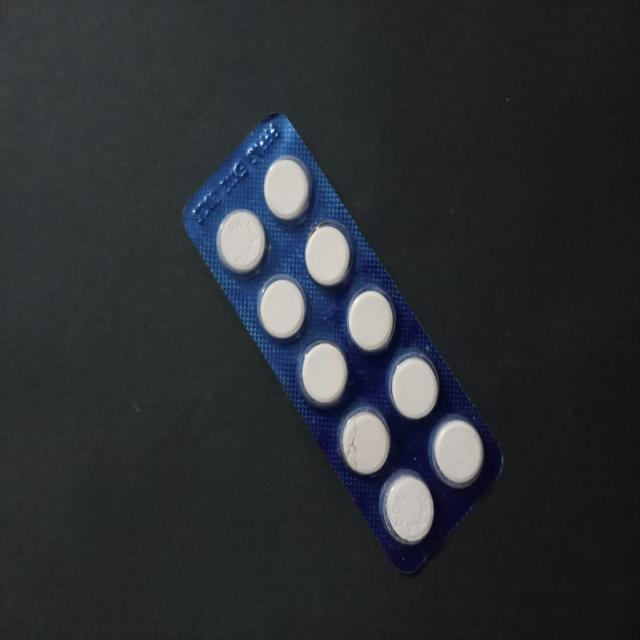defect: (339, 406, 391, 476)
